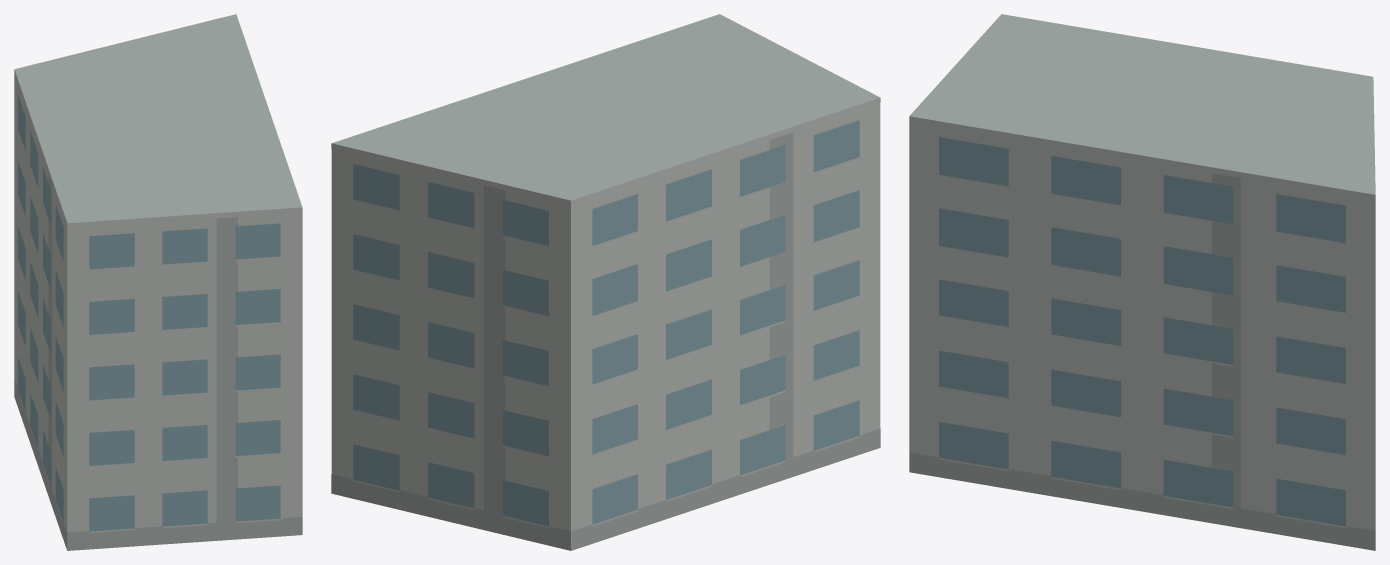
The model's file is residential-a54eeb4d-ca1c-431c-93f3-9fa6c2ae32fc.glb.
3 views of the same model, side by side, from view 1: azimuth 30°, elevation 25°; view 2: azimuth 150°, elevation 25°; view 3: azimuth 270°, elevation 25° (orthographic). The views are drawn at different scales.
Visible parts, largest first — view 1: residential-a54eeb4d-ca1c-431c-93f3-9fa6c2ae32fc.tmp; view 2: residential-a54eeb4d-ca1c-431c-93f3-9fa6c2ae32fc.tmp; view 3: residential-a54eeb4d-ca1c-431c-93f3-9fa6c2ae32fc.tmp.
Boxes of the visible parts, x1=… form: residential-a54eeb4d-ca1c-431c-93f3-9fa6c2ae32fc.tmp: x1=14, y1=14, x2=302, y2=550; residential-a54eeb4d-ca1c-431c-93f3-9fa6c2ae32fc.tmp: x1=331, y1=14, x2=880, y2=550; residential-a54eeb4d-ca1c-431c-93f3-9fa6c2ae32fc.tmp: x1=909, y1=14, x2=1375, y2=550.
Size of the model in its own units: 16.63 by 15.25 by 18.12.
